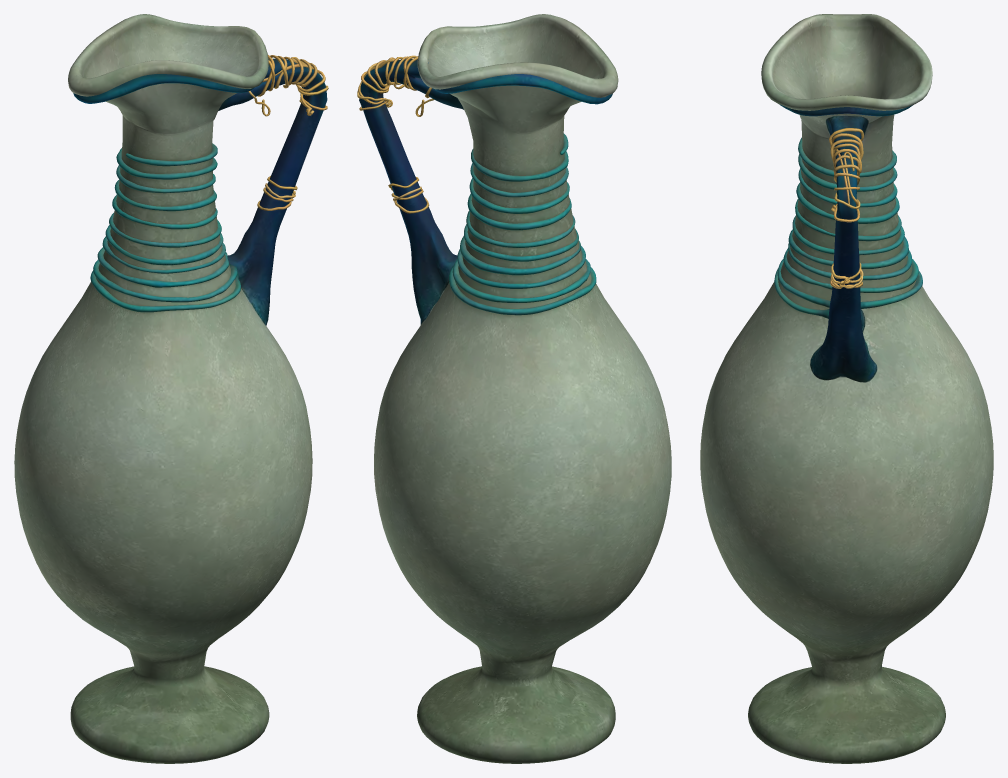
Rendered from bottle.glb.
3 views of the same model, side by side, from view 1: azimuth 30°, elevation 25°; view 2: azimuth 150°, elevation 25°; view 3: azimuth 270°, elevation 25° (orthographic).
Visible parts, largest first — view 1: SM_ShillaGlassBottle_01_Lowpoly_SM_ShillaGlassBottle_01_0; view 2: SM_ShillaGlassBottle_01_Lowpoly_SM_ShillaGlassBottle_01_0; view 3: SM_ShillaGlassBottle_01_Lowpoly_SM_ShillaGlassBottle_01_0.
Boxes of the visible parts, bbox=[...] form: SM_ShillaGlassBottle_01_Lowpoly_SM_ShillaGlassBottle_01_0: bbox=[14, 14, 328, 763]; SM_ShillaGlassBottle_01_Lowpoly_SM_ShillaGlassBottle_01_0: bbox=[357, 14, 671, 763]; SM_ShillaGlassBottle_01_Lowpoly_SM_ShillaGlassBottle_01_0: bbox=[700, 14, 993, 763].
Bounding box in the file's own units: 0.1099 × 0.248 × 0.0961.
Materials: 1 (1 with a texture image).
